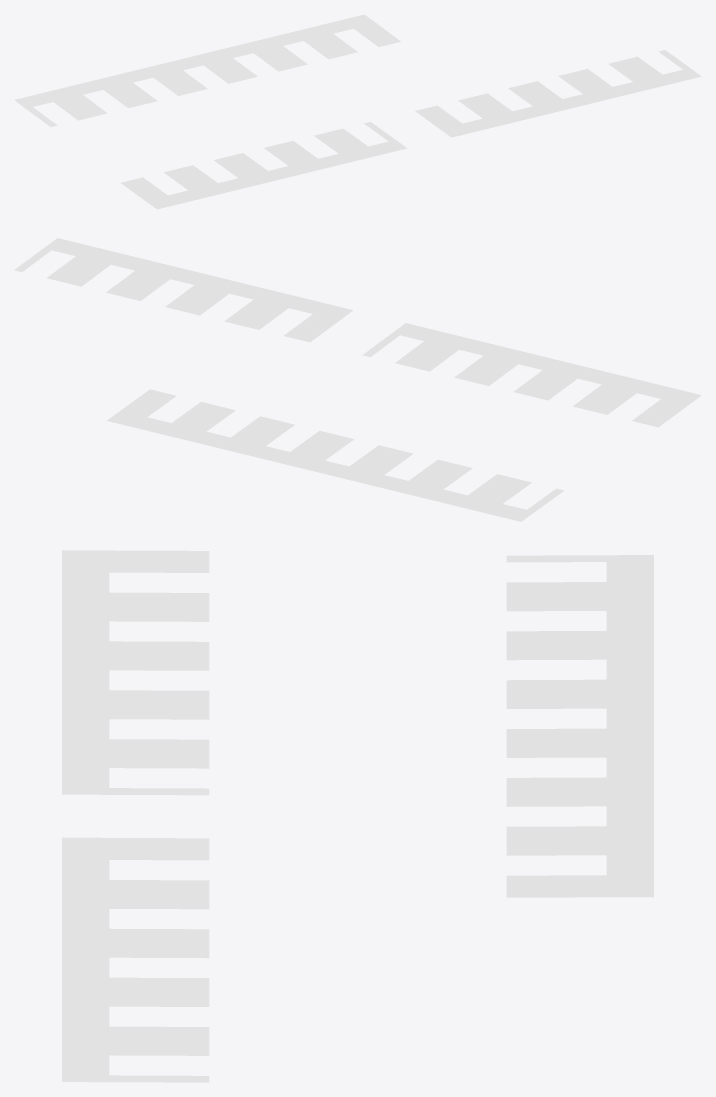
File: carspaces_sfe.obj
3 renders of one model, top to bottom at view 1: azimuth 30°, elevation 25°; view 2: azimuth 150°, elevation 25°; view 3: azimuth 270°, elevation 25°, orthographic. The views are drawn at different scales.
Visible parts, largest first — view 1: carspaces_sfe; view 2: carspaces_sfe; view 3: carspaces_sfe.
Part boxes in pixels (<box>): carspaces_sfe: <box>14,14,701,209</box>; carspaces_sfe: <box>14,238,701,521</box>; carspaces_sfe: <box>62,550,653,1082</box>.
Bounding box in the file's own units: 64.47 × 0.0358 × 30.33.
1 material, 1 textured.
